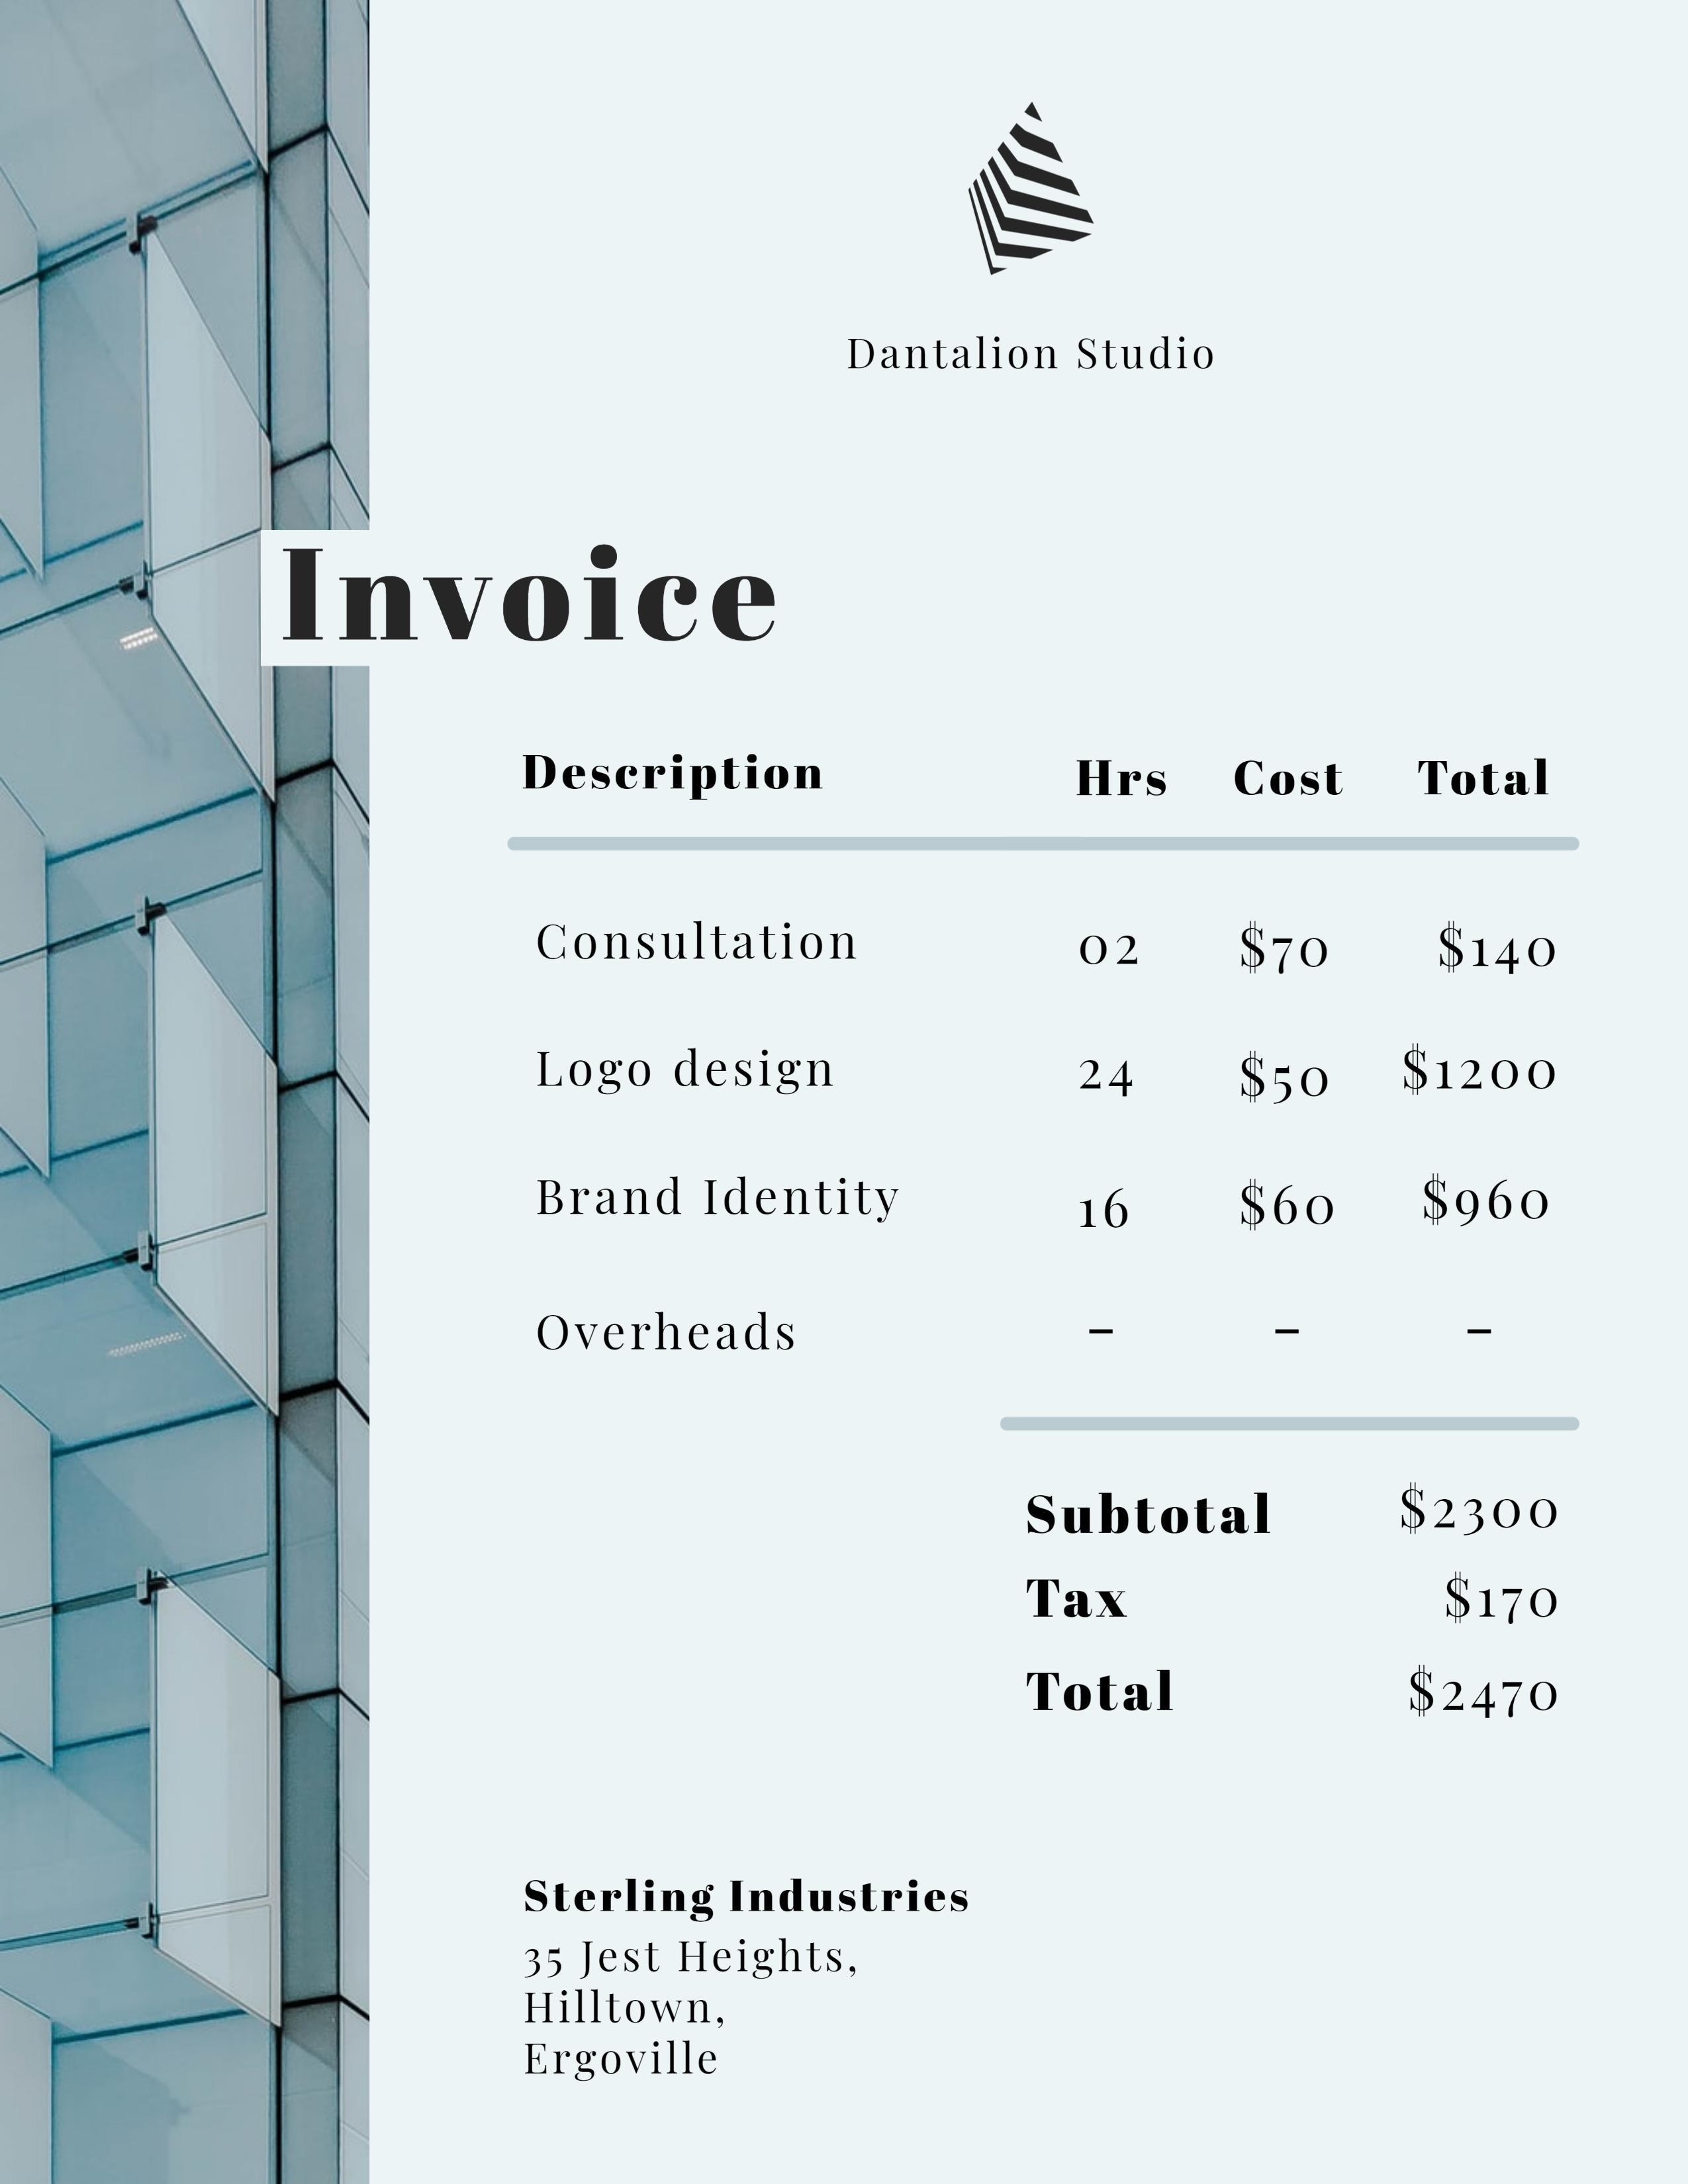ROI: (500, 738, 1572, 1373), (996, 1449, 1575, 1747), (506, 1866, 993, 2115), (801, 311, 1248, 410)
